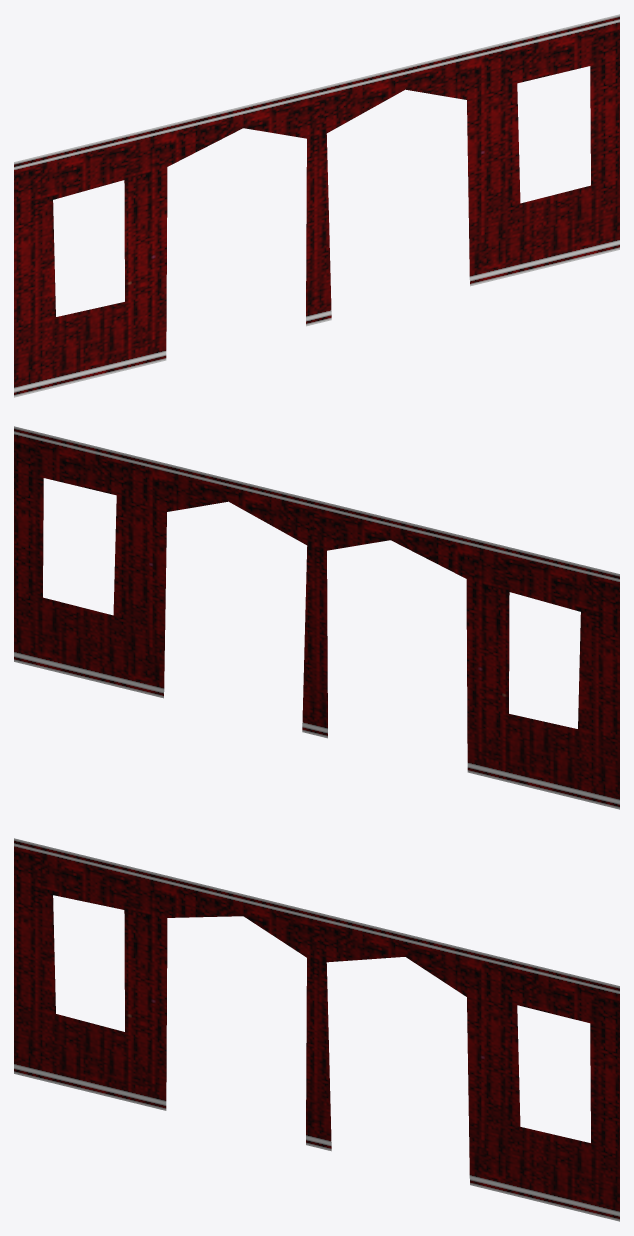
File: W_AI1_foof_2105.glb
The picture shows the model from 3 angles, top to bottom: view 1: azimuth 30°, elevation 25°; view 2: azimuth 150°, elevation 25°; view 3: azimuth 330°, elevation 25°; orthographic projection.
Parts seen in each view (by area): view 1: polySurfaceShape761; view 2: polySurfaceShape761; view 3: polySurfaceShape761.
Boxes of the visible parts, x1,y1,x2,y2 form: polySurfaceShape761: (14,14,619,397); polySurfaceShape761: (14,426,619,809); polySurfaceShape761: (14,838,619,1221).
Size of the model in its own units: 0.9385 by 0.3486 by 1.34e-07.
Materials: 1 (1 with a texture image).
